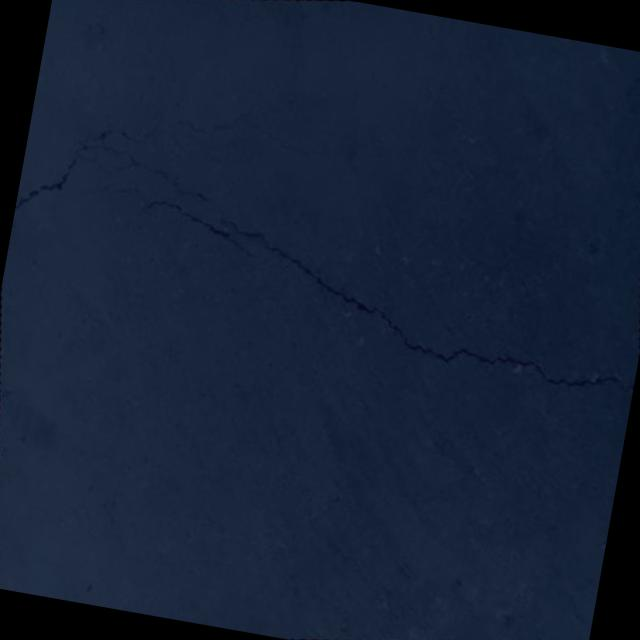crack: (49, 98, 640, 480), (14, 64, 342, 270)
